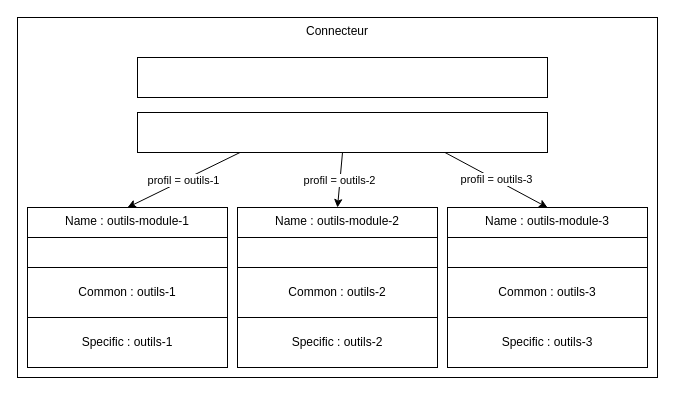
This 675x395 diagram has some shape labels left out. The shapes that lost their labels are listed below. From the top down, each one's centre as x and y in pixels, then its label:
the point at 342,77: gandalf-module
the point at 342,132: configuration par profil
the point at 127,252: Profil : outils-1
the point at 337,252: Profil : outils-2
the point at 547,252: Profil : outils-3
